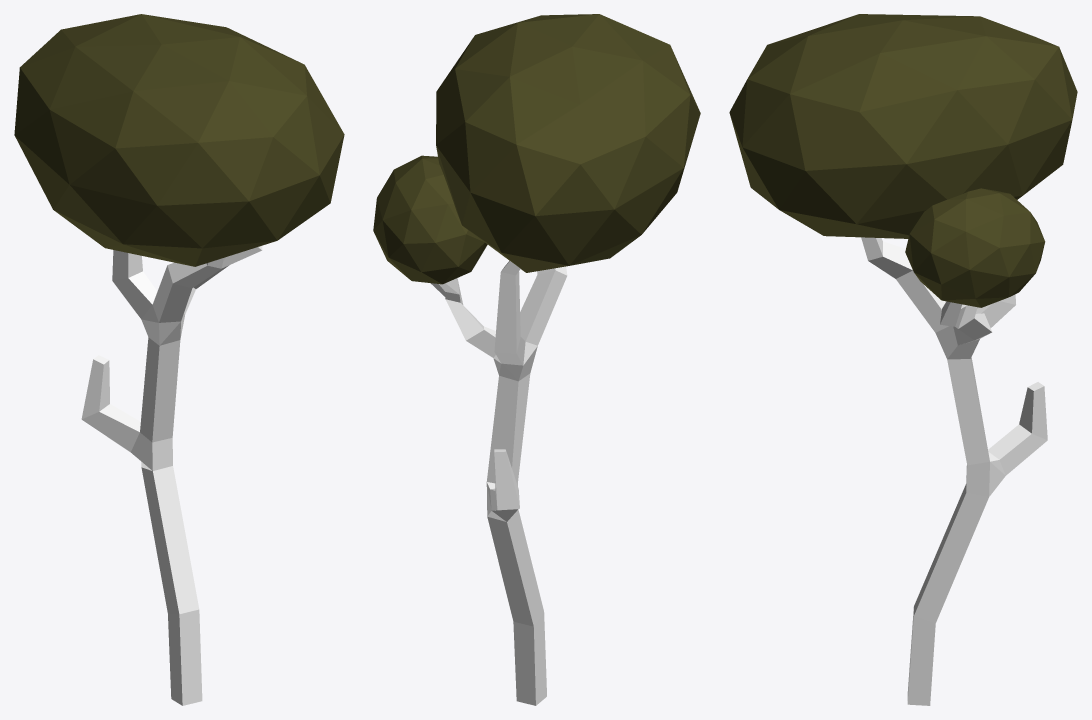
Rendered from PrairieTree(1).fbx.
3 views of the same model, side by side, from view 1: azimuth 30°, elevation 25°; view 2: azimuth 150°, elevation 25°; view 3: azimuth 270°, elevation 25° (orthographic). The views are drawn at different scales.
Visible parts, largest first — view 1: PrairieTree(1); view 2: PrairieTree(1); view 3: PrairieTree(1).
Part boxes in pixels (box(x1,y1,x2,y2)): PrairieTree(1): box(14, 14, 344, 705); PrairieTree(1): box(373, 14, 700, 705); PrairieTree(1): box(729, 14, 1077, 705).
Size of the model in its own units: 3.81 by 9.18 by 4.36.
